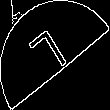L_SE: (31, 25, 79, 85)
